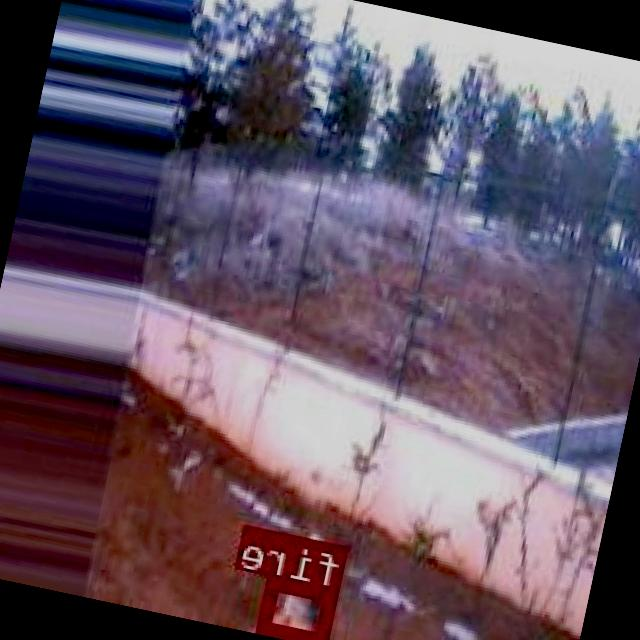fire: (261, 575, 341, 640)
